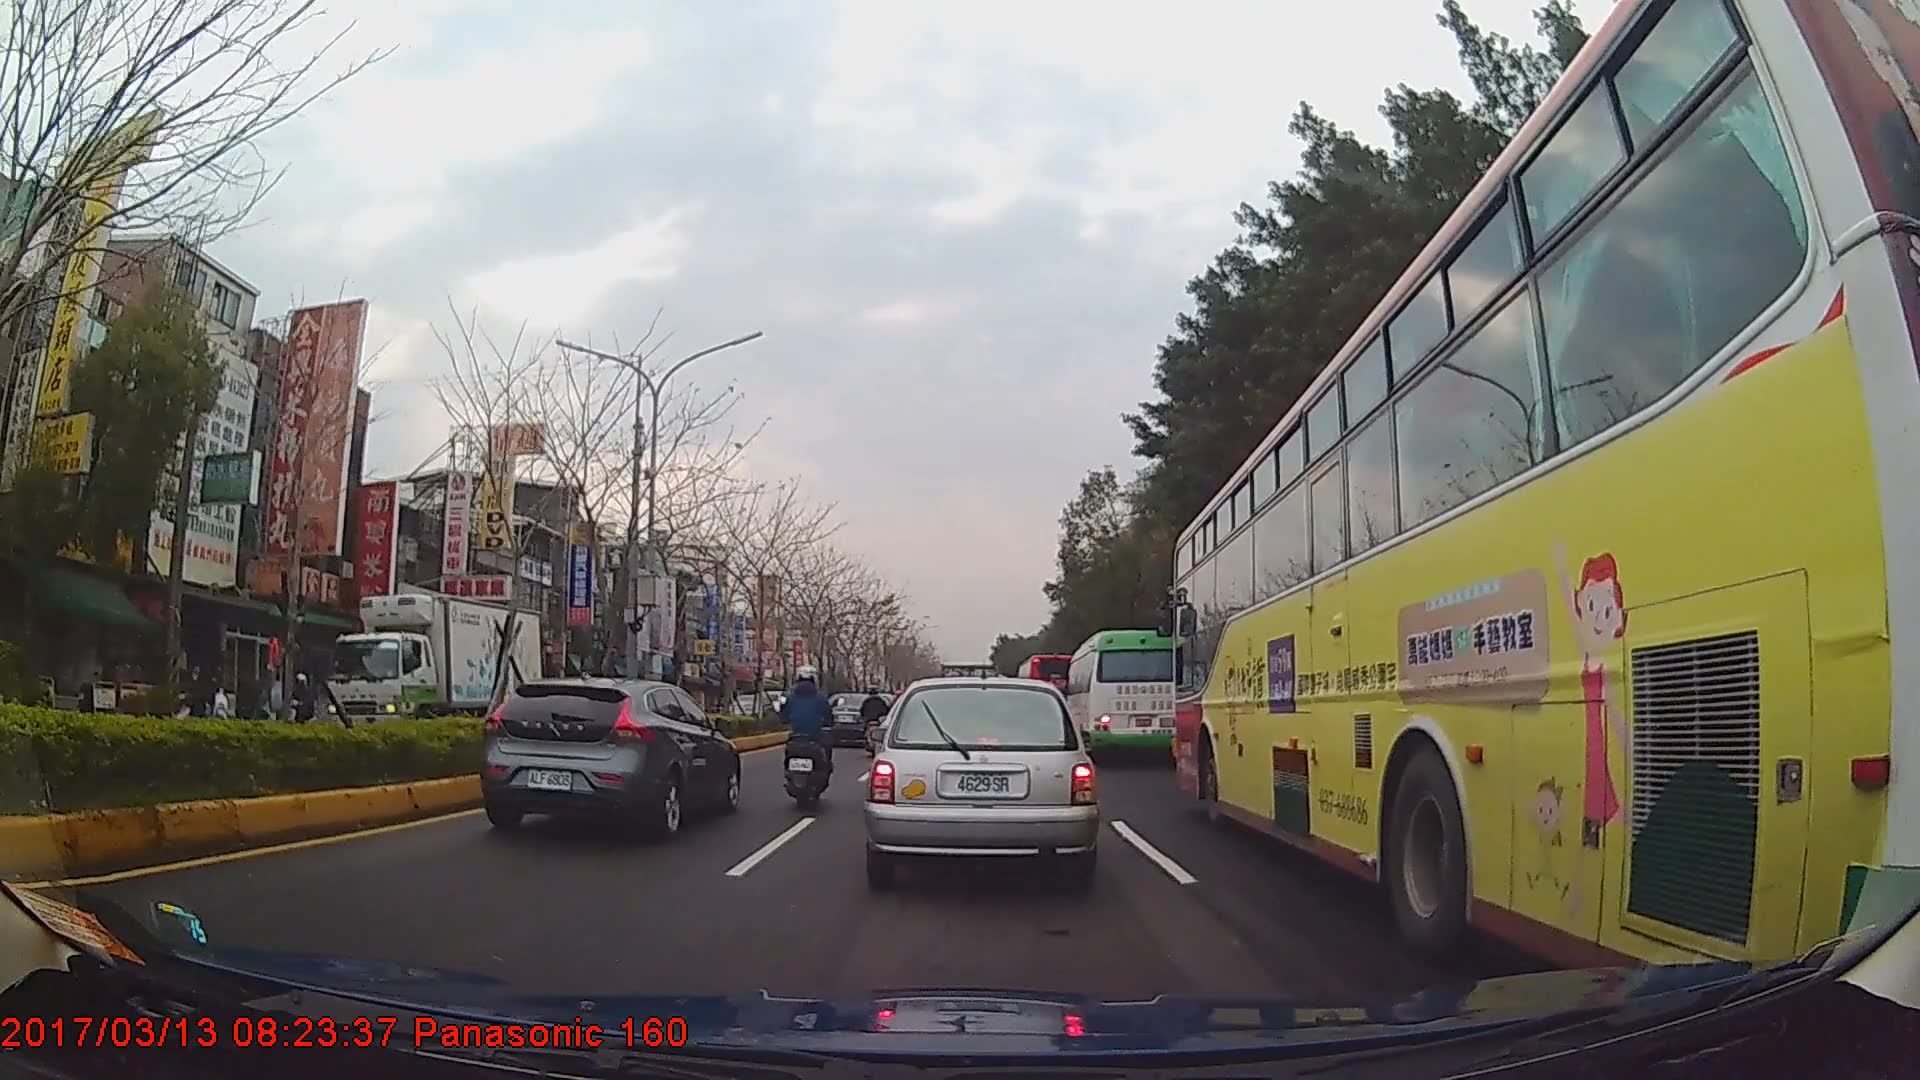rider: (781, 662, 839, 796), (176, 664, 220, 717), (861, 685, 891, 751), (285, 673, 318, 725)
vehicle: (1172, 0, 1920, 1029), (864, 676, 1096, 888), (480, 672, 741, 841), (324, 592, 544, 758), (1064, 627, 1180, 763), (1015, 648, 1080, 719), (823, 691, 882, 748)
